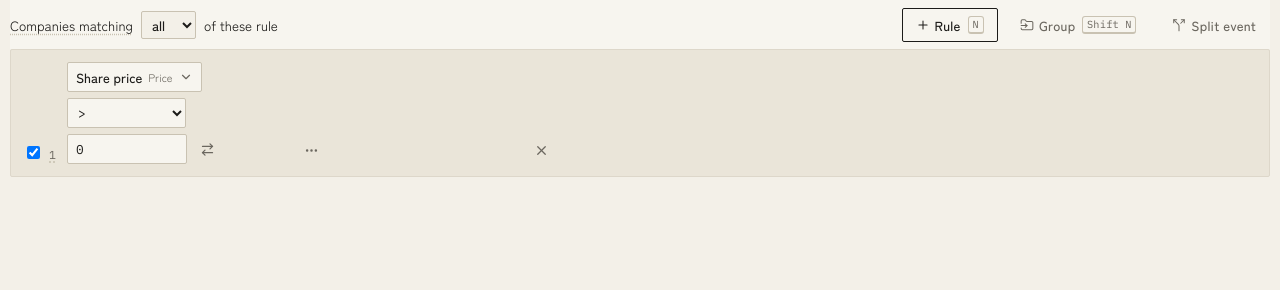
Test case: rule builder › offers formulas such as P/E and reads them back as one metric
Click the button with aria-label "Rule metric" at (134, 77), box [67, 62, 202, 92]
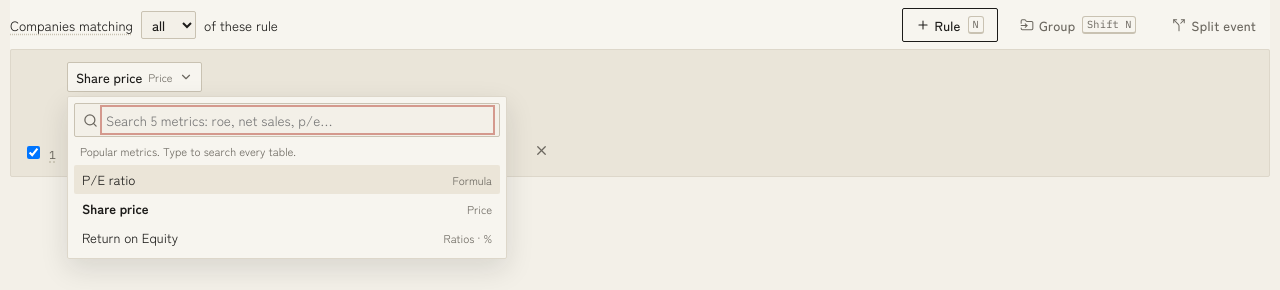
Type "p/e" into the dropdown named "Search rule metric" at (298, 120), box [104, 109, 491, 131]
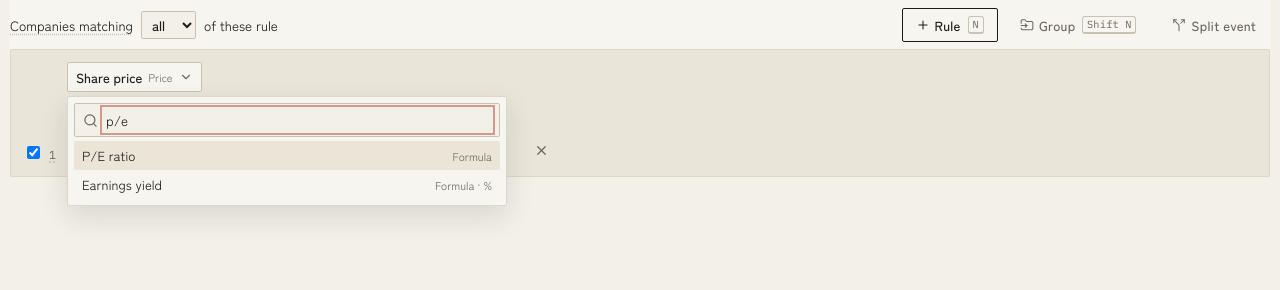
Press Enter in the dropdown named "Search rule metric", box [104, 109, 491, 131]
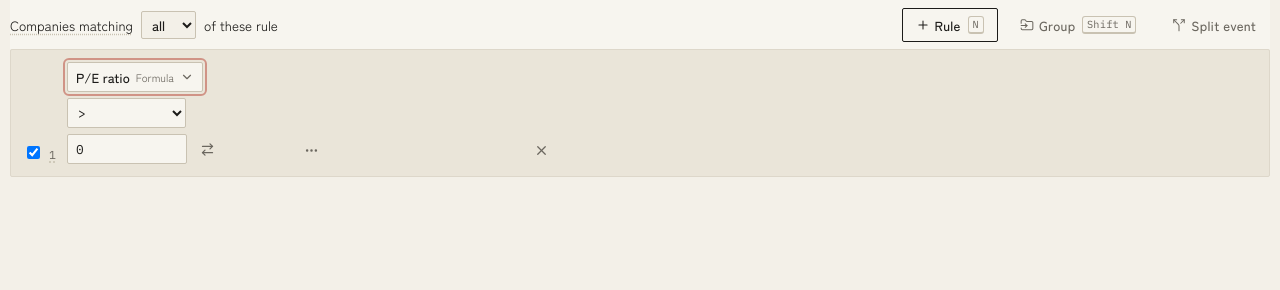
Check: the button with aria-label "Rule metric: P/E ratio" is shown, box [67, 62, 203, 92]
